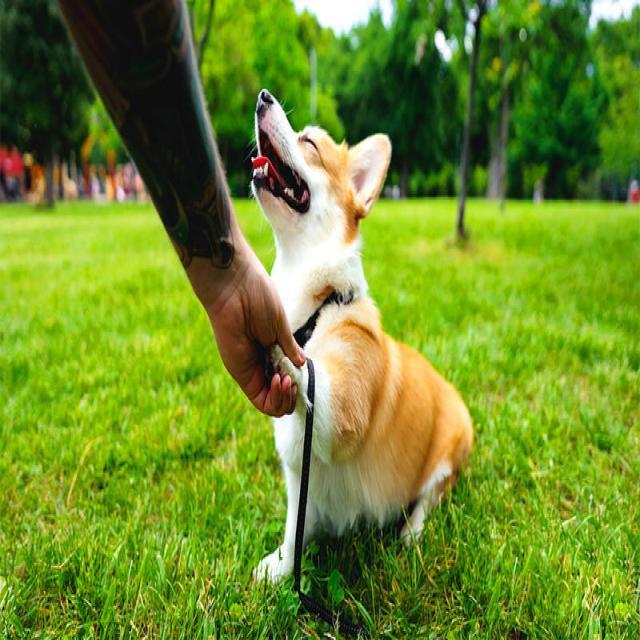CORGI: (236, 83, 479, 614)
